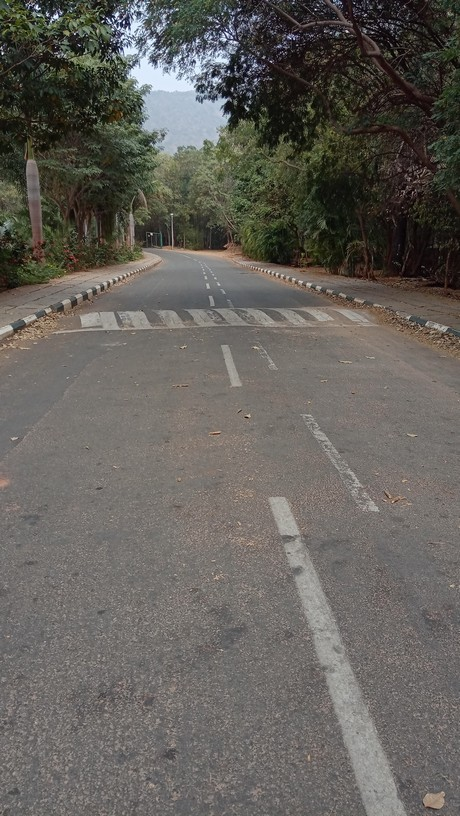bump: (38, 308, 381, 331)
